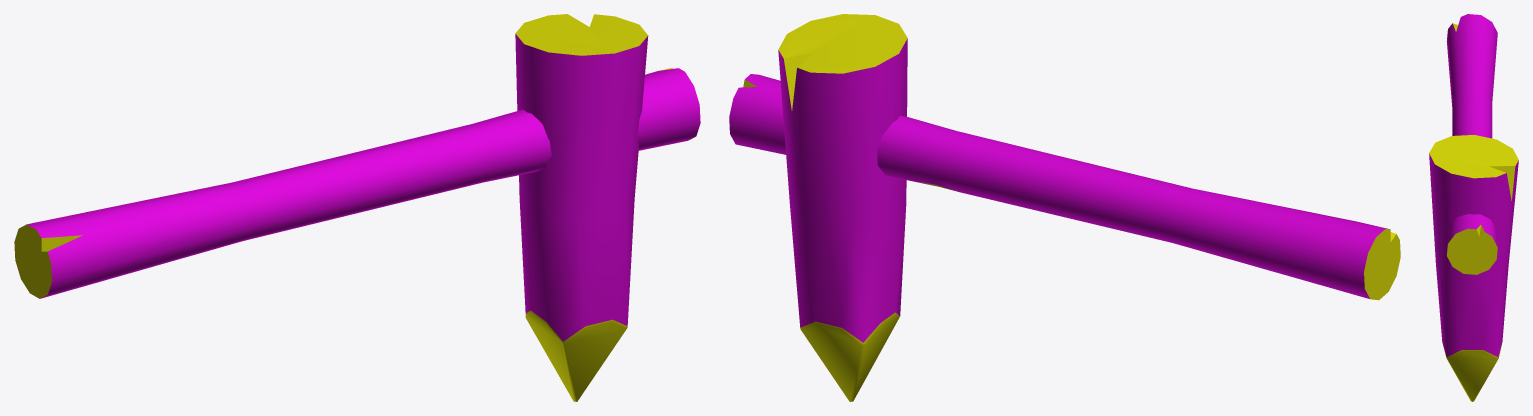
File: F_LogFence003.fbx
3 views of the same model, side by side, from view 1: azimuth 30°, elevation 25°; view 2: azimuth 150°, elevation 25°; view 3: azimuth 270°, elevation 25° (orthographic). The views are drawn at different scales.
Visible parts, largest first — view 1: Cylinder031; view 2: Cylinder031; view 3: Cylinder031.
Part boxes in pixels (x1=…): Cylinder031: x1=14, y1=14, x2=700, y2=401; Cylinder031: x1=729, y1=14, x2=1400, y2=401; Cylinder031: x1=1429, y1=14, x2=1518, y2=401.
Bounding box in the file's own units: 161 × 87.82 × 28.44.
